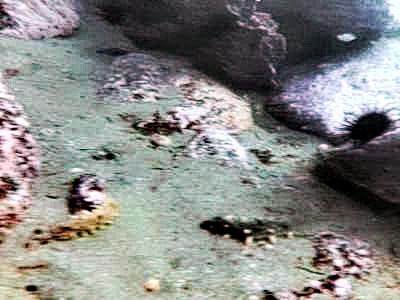urchin: (340, 106, 391, 145)
